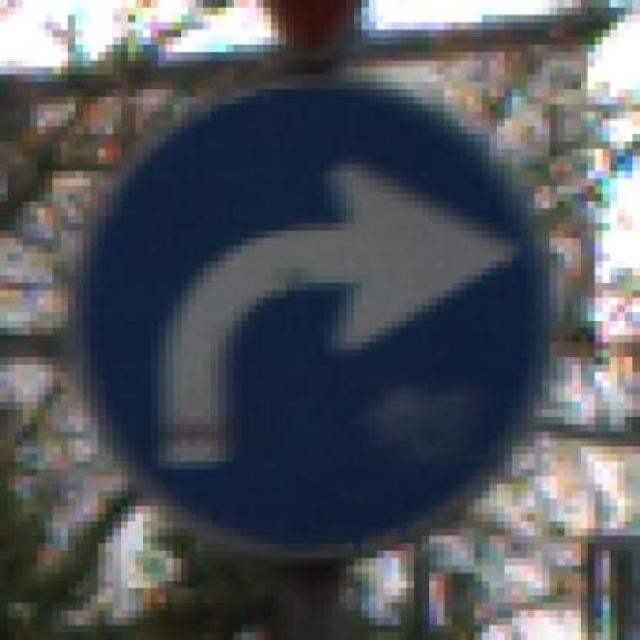Turn right ahead: (71, 74, 568, 552)
